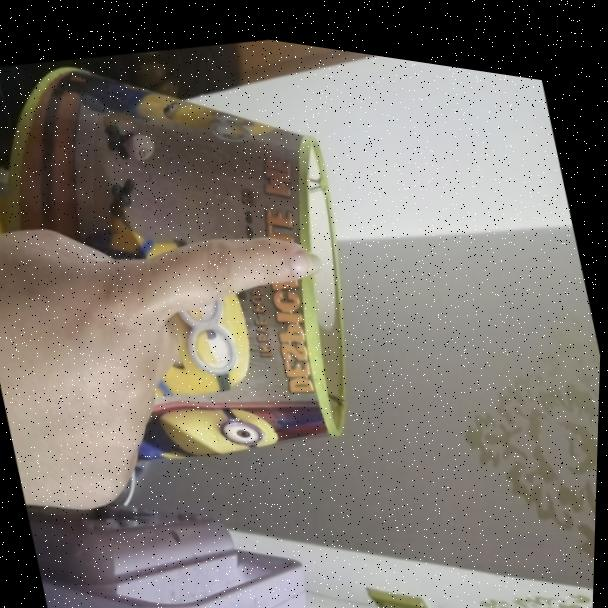one: (0, 144, 375, 559)
